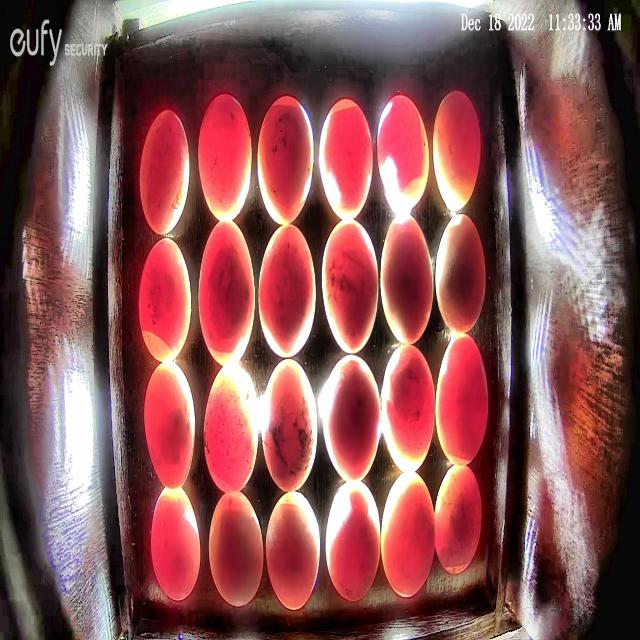FE: (198, 218, 255, 366), (257, 223, 317, 359), (321, 218, 380, 355), (260, 357, 318, 493), (202, 362, 259, 494), (379, 210, 434, 346), (257, 94, 313, 227), (324, 354, 381, 484), (435, 332, 489, 467), (380, 344, 436, 474), (381, 468, 436, 598), (325, 478, 381, 604), (318, 98, 374, 222), (198, 94, 252, 222), (265, 489, 321, 611), (144, 359, 196, 490), (138, 107, 190, 236), (138, 238, 192, 362), (208, 489, 264, 608), (377, 94, 429, 213), (435, 213, 486, 333), (150, 486, 202, 602), (433, 91, 481, 211), (433, 462, 482, 574)
